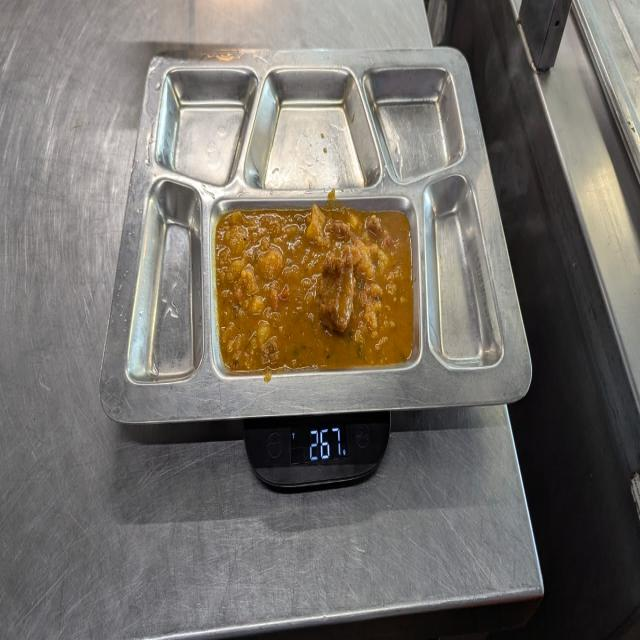Aloo Sabji: (218, 207, 414, 370)
